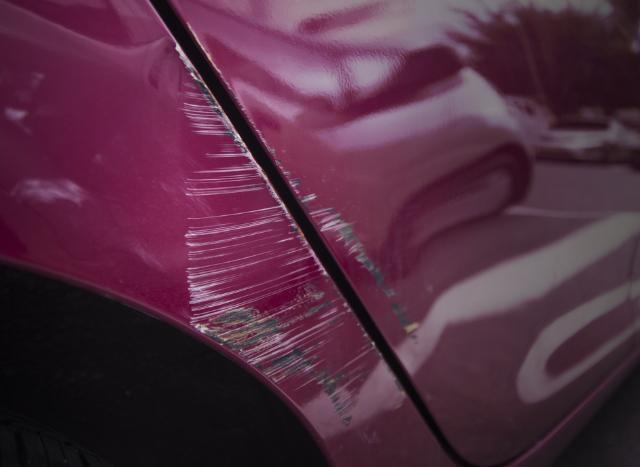Door: (182, 13, 440, 379)
Fender: (171, 43, 414, 463)
